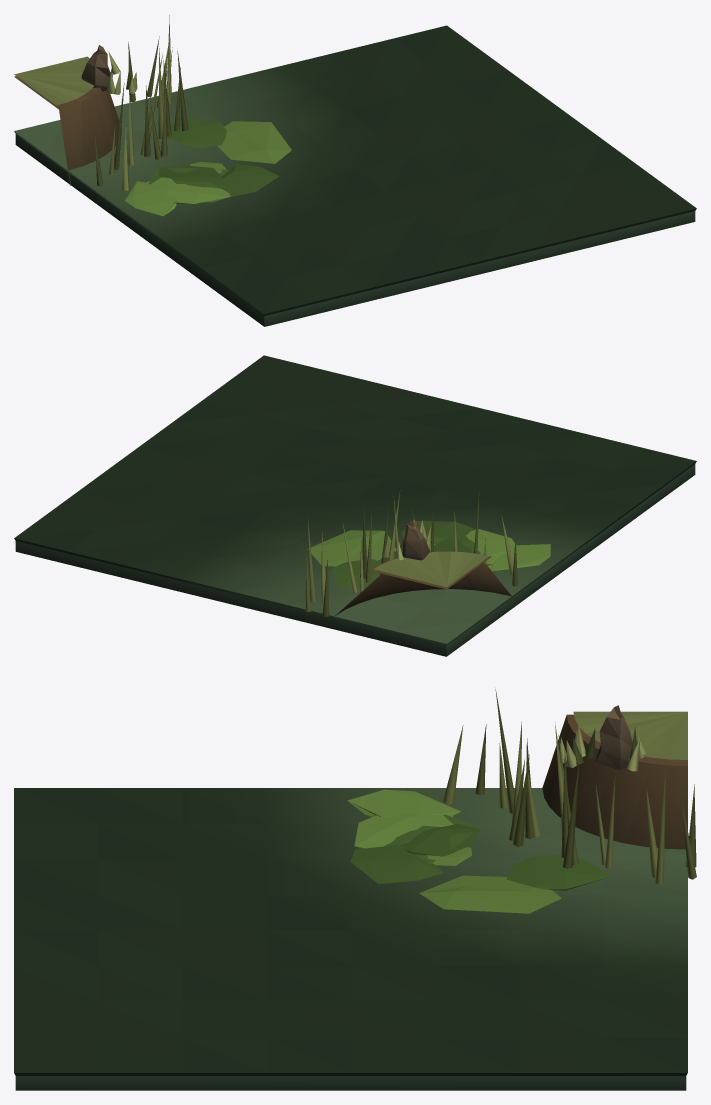
Rendered from shore-corner-out-bayou-tile.glb.
3 views of the same model, one above another, from view 1: azimuth 30°, elevation 25°; view 2: azimuth 150°, elevation 25°; view 3: azimuth 270°, elevation 25° (orthographic). The views are drawn at different scales.
Visible parts, largest first — view 1: shore_corner_out_bayou_tile; view 2: shore_corner_out_bayou_tile; view 3: shore_corner_out_bayou_tile.
Part boxes in pixels (x1,y1,x2,y2): shore_corner_out_bayou_tile: [14, 15, 696, 326]; shore_corner_out_bayou_tile: [14, 355, 696, 656]; shore_corner_out_bayou_tile: [14, 689, 696, 1090].
Bounding box in the file's own units: 4 × 0.9714 × 4.05.
